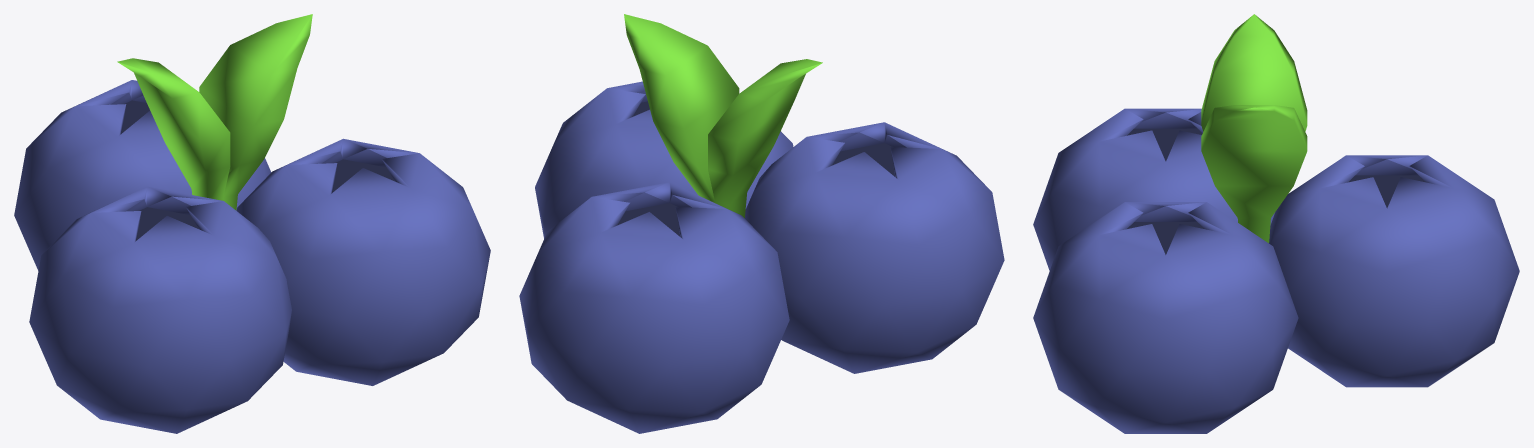
File: item_blueberry.fbx
3 views of the same model, side by side, from view 1: azimuth 30°, elevation 25°; view 2: azimuth 150°, elevation 25°; view 3: azimuth 270°, elevation 25° (orthographic). The views are drawn at different scales.
Parts seen in each view (by area): view 1: Cube; view 2: Cube; view 3: Cube.
Boxes of the visible parts, left/top/right/bottom form: Cube: left=14, top=14, right=490, bottom=433; Cube: left=519, top=14, right=1004, bottom=433; Cube: left=1033, top=14, right=1519, bottom=433.
Bounding box in the file's own units: 214 × 159 × 220.
